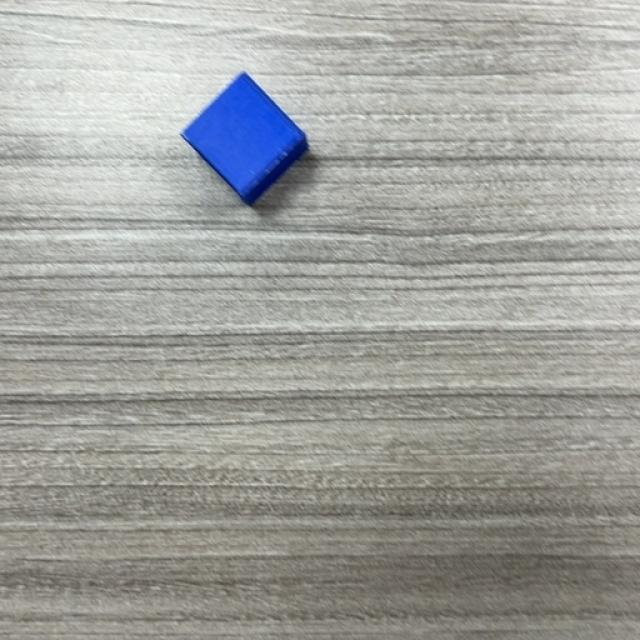Azul: (179, 72, 310, 208)
